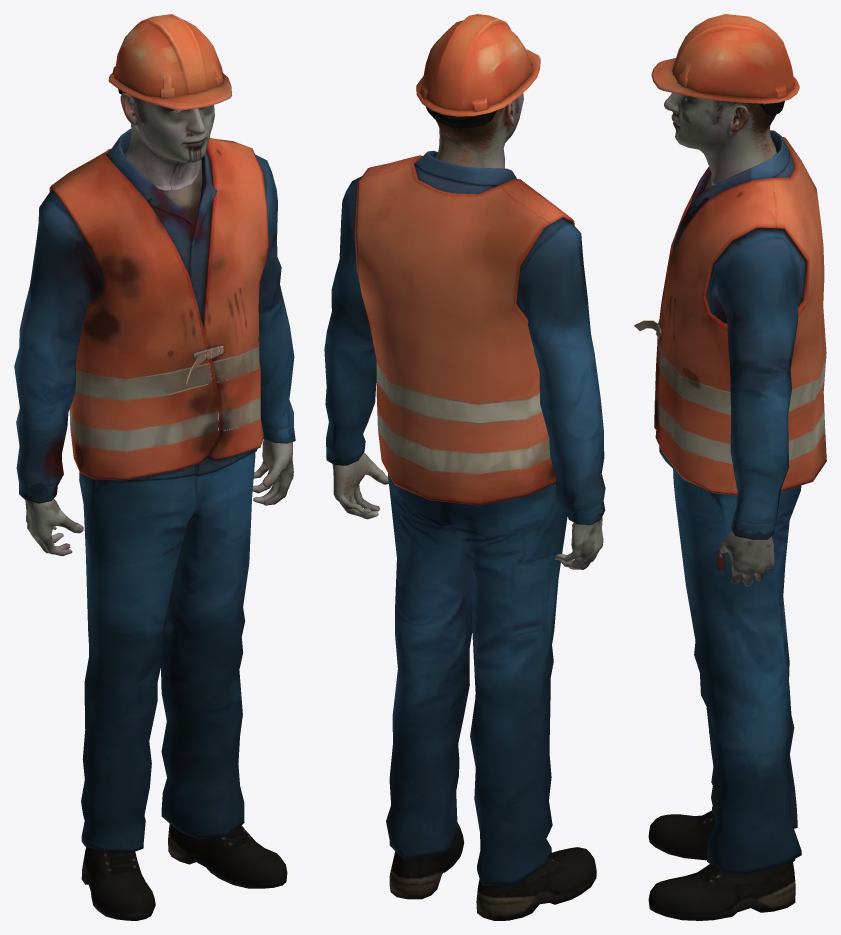
The model's file is worker.glb.
3 views of the same model, side by side, from view 1: azimuth 30°, elevation 25°; view 2: azimuth 150°, elevation 25°; view 3: azimuth 270°, elevation 25° (orthographic).
Parts seen in each view (by area): view 1: worker; view 2: worker; view 3: worker.
Part boxes in pixels (x1,y1,x2,y2): worker: (14, 14, 295, 920); worker: (324, 14, 605, 920); worker: (634, 14, 826, 920).
Size of the model in its own units: 0.6045 by 1.84 by 0.373.
Materials: 3 (3 with a texture image).
